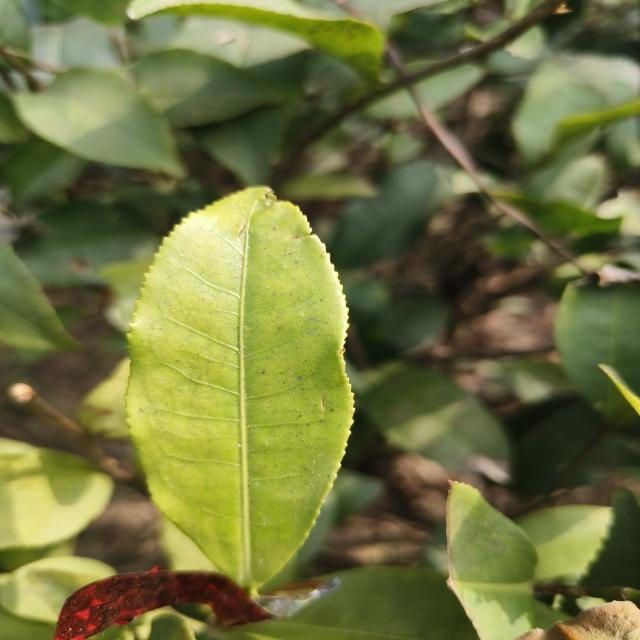Leaf: (126, 187, 353, 588), (171, 17, 311, 186), (127, 0, 383, 81), (216, 566, 478, 640), (14, 68, 184, 177), (359, 363, 511, 484), (446, 482, 537, 640), (327, 161, 448, 271), (0, 438, 113, 550), (14, 201, 158, 286), (554, 280, 640, 418), (132, 49, 280, 128), (0, 245, 79, 352), (0, 556, 114, 624), (516, 505, 613, 583), (0, 137, 85, 206), (583, 489, 640, 589), (414, 65, 484, 111), (368, 90, 417, 119)
